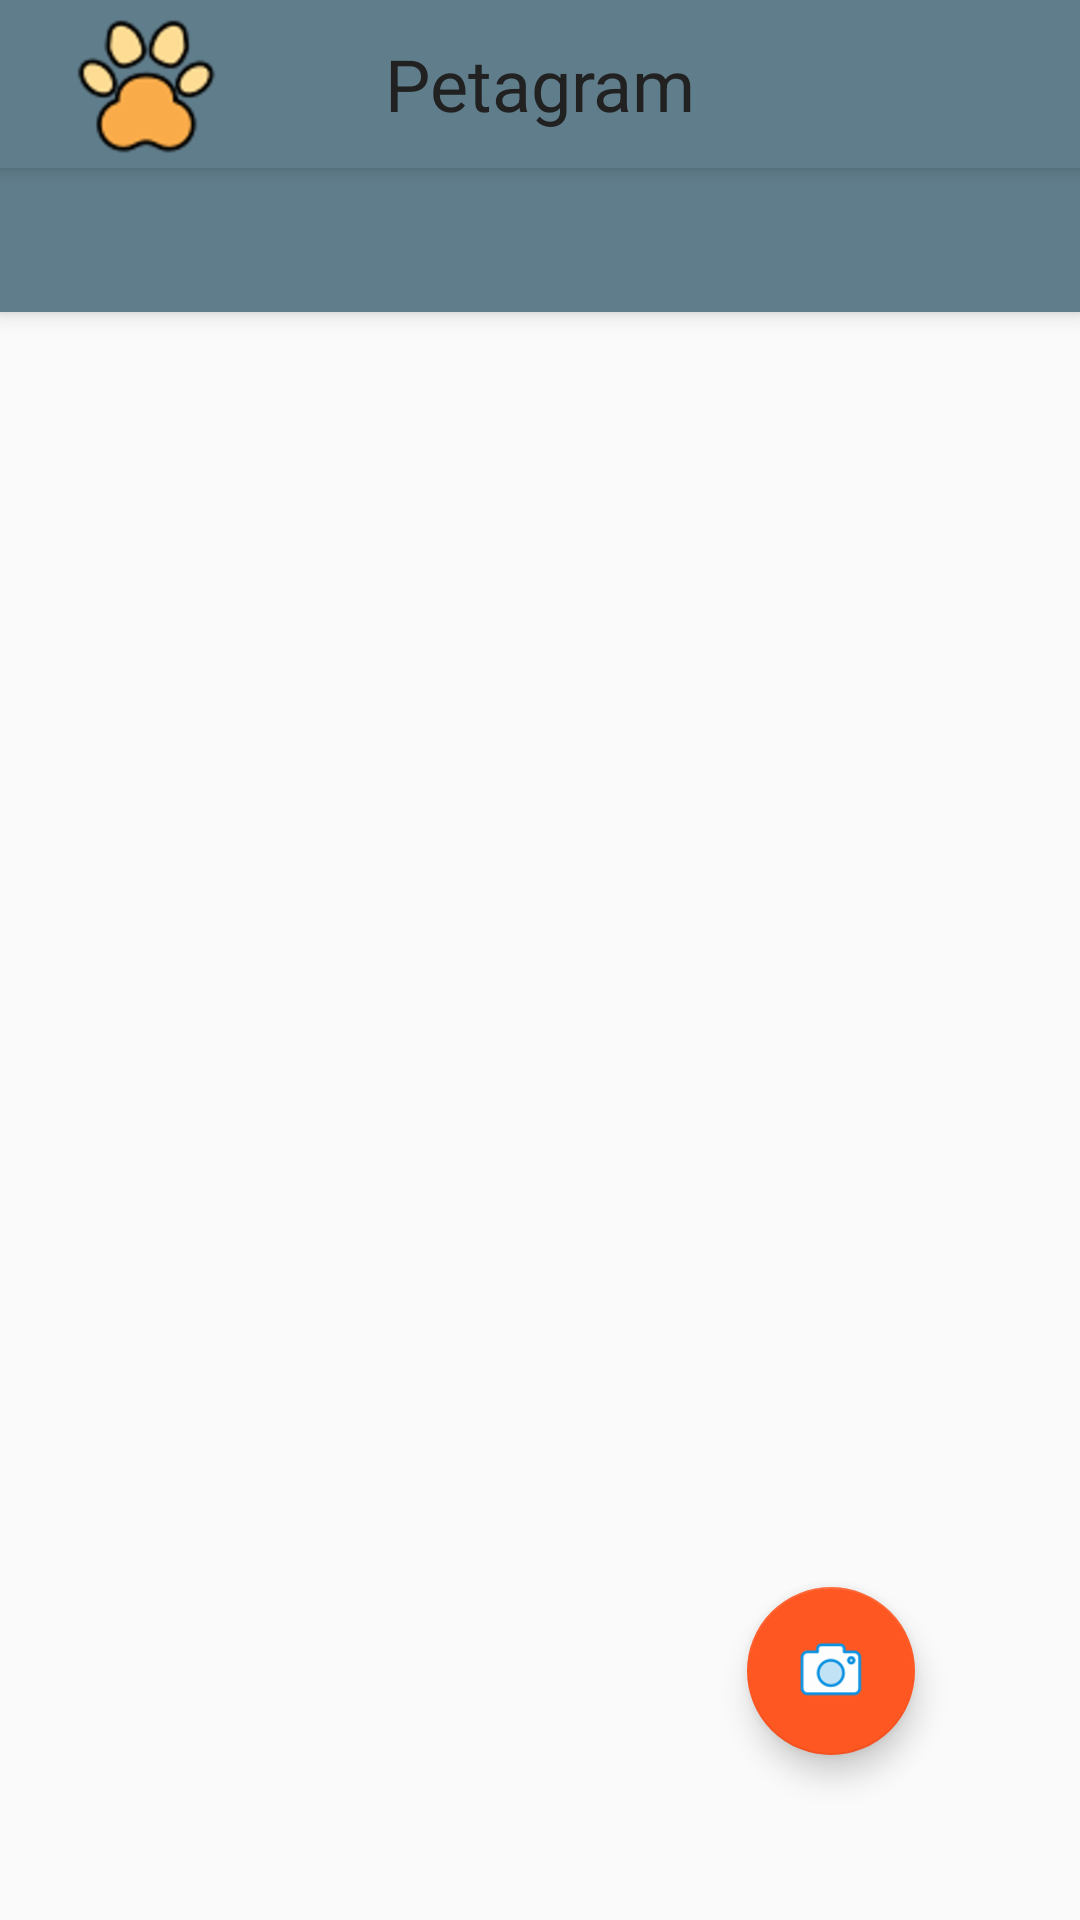

Icons on this 1080*1920 Android screen, each with its box as (x1, y1, x2, y2):
camera: (747, 1587, 915, 1755)
pet: (78, 20, 215, 153)
